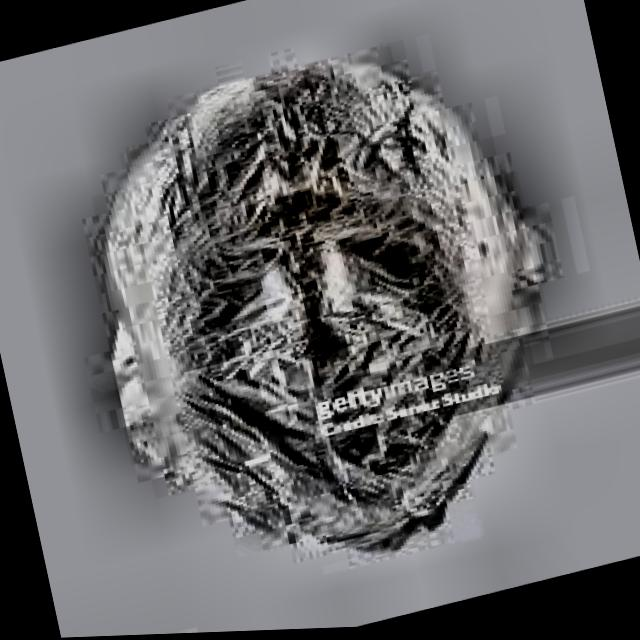Foil: (53, 0, 618, 629)
